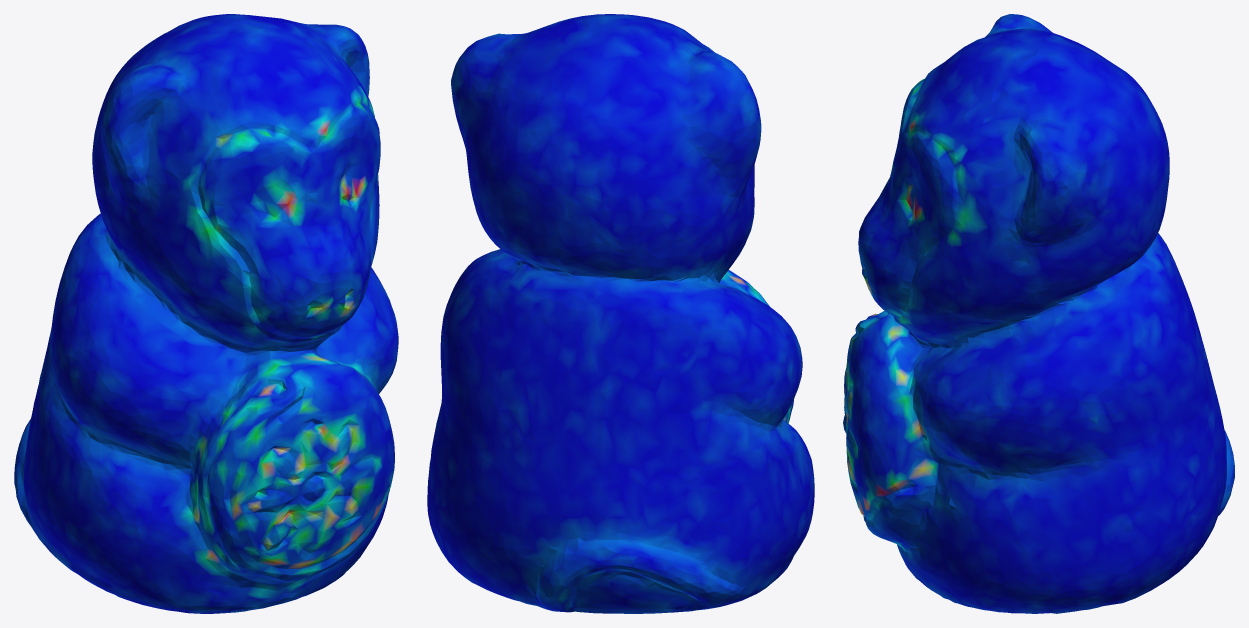
The model's file is monkey_cmdm_reference.obj.
The picture shows the model from 3 angles, left to right: view 1: azimuth 30°, elevation 25°; view 2: azimuth 150°, elevation 25°; view 3: azimuth 270°, elevation 25°; orthographic projection. The views are drawn at different scales.
Size of the model in its own units: 64.08 by 101 by 68.51.
